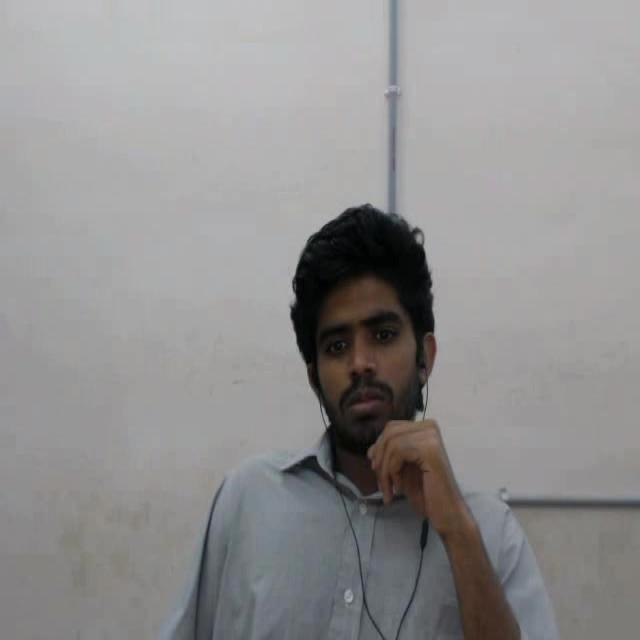Bored: (267, 174, 463, 480)
